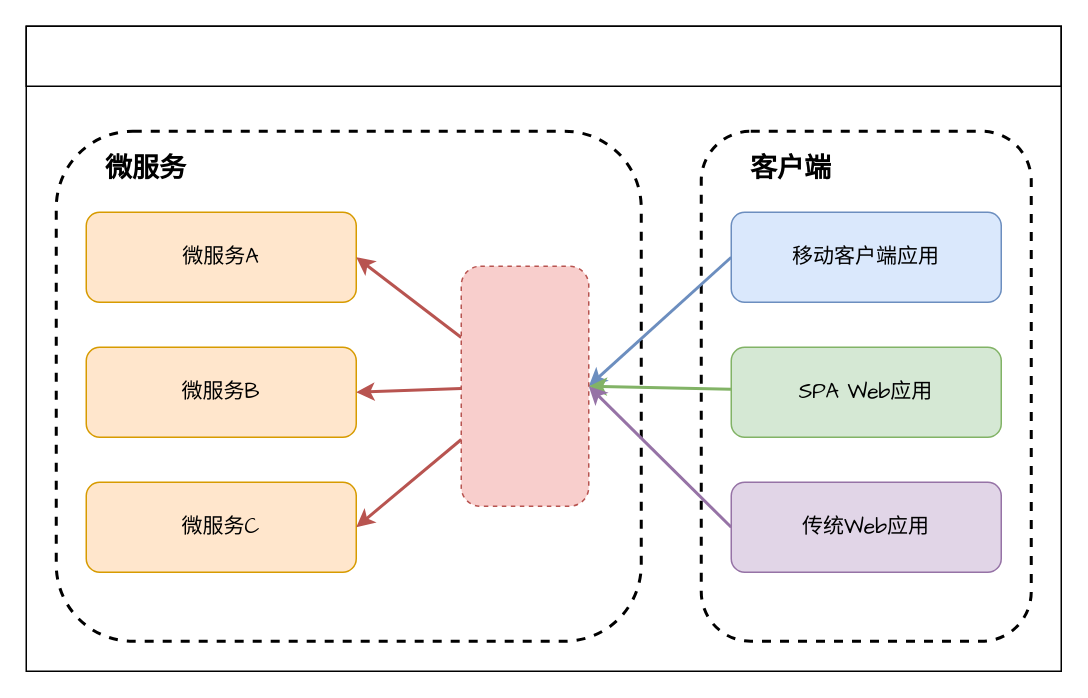
Some shapes in this 1088 by 698 pixel diagram are drawn without their labels. Each missing label, with the centre of its shape:
"共享网关模式" belongs at point (543, 55).
"网关" belongs at point (524, 385).
